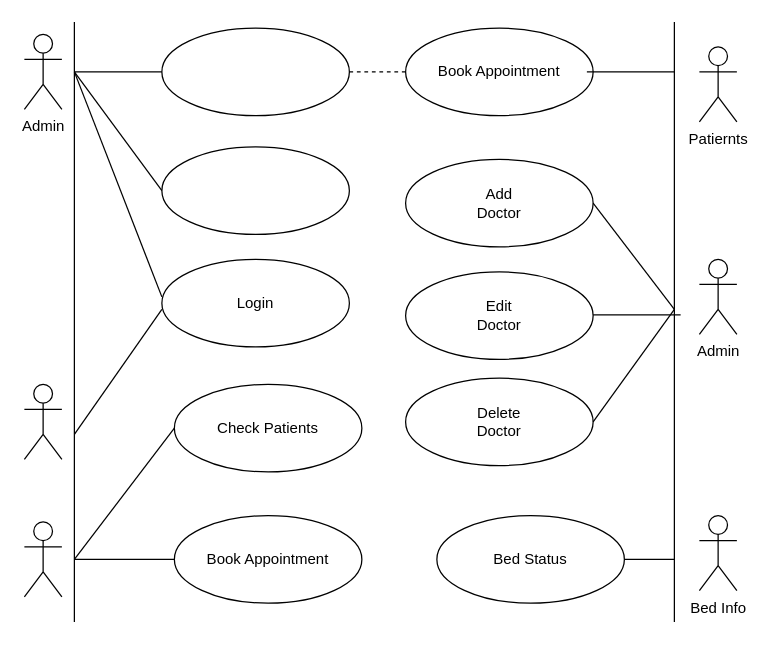
The diagram is 769 pixels wide and 645 high, and some of its shapes have lost their labels. The box of each missing label's shape, as (x1, y1, x2, y2) in pixels:
Doctor: (23, 383, 62, 459)
Doctor Management: (161, 27, 349, 116)
Manage Patients: (161, 146, 349, 234)
User: (23, 521, 62, 597)
